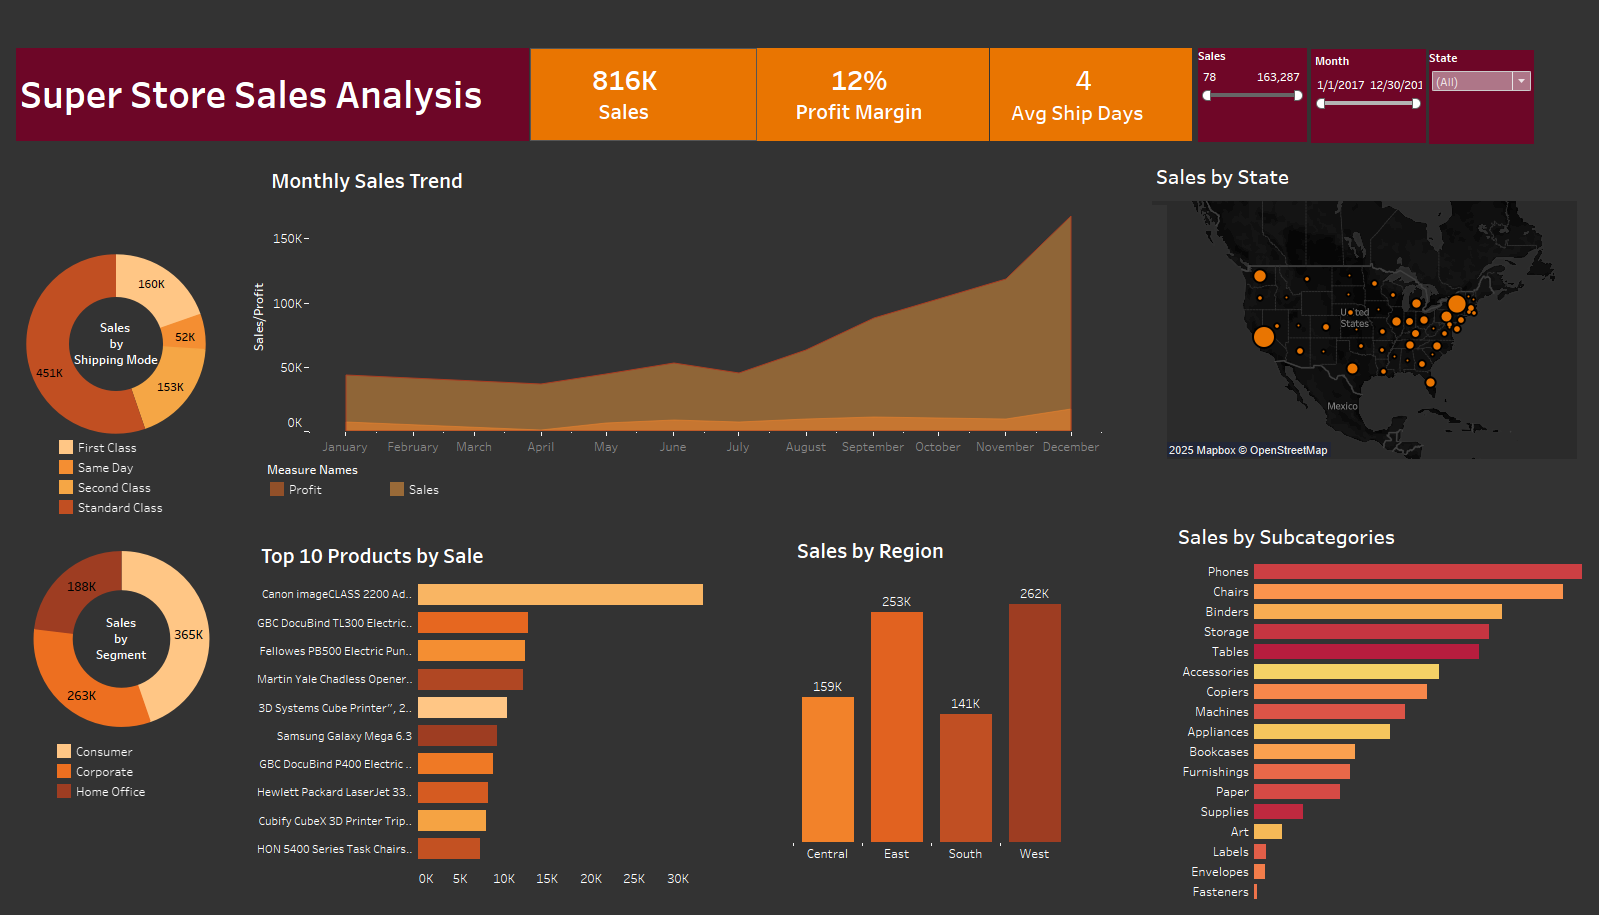

This screenshot's page, from the dashboard's own definition file:
{"tool":"tableau","page":{"name":"Dashboard 1","canvas":[1600,900],"ordinal":0},"visuals":[{"type":"worksheet","title":"Header","mark":"Automatic","box":[2,14,526,137]},{"type":"worksheet","title":"Total Sales","mark":"Automatic","box":[516,14,227,93]},{"type":"worksheet","title":"Profit Margin","mark":"Automatic","box":[743,14,233,97]},{"type":"worksheet","title":"AverageshipDate","mark":"Automatic","box":[976,14,220,102]},{"type":"filter","title":"Sales by State","param":"[federated.0d0wovi0mn58ye1bmkpum0ag3k66].[sum:sales:qk]","box":[1184,14,109,94]},{"type":"filter","title":"Monthly Trend","param":"[federated.0d0wovi0mn58ye1bmkpum0ag3k66].[none:order date:qk]","box":[1297,15,115,94]},{"type":"filter","title":"salesbysubcategories","param":"[federated.0d0wovi0mn58ye1bmkpum0ag3k66].[none:state:nk]","box":[1415,16,105,94]},{"type":"worksheet","title":"Sales by State","mark":"Automatic","box":[1138,124,425,301]},{"type":"worksheet","title":"Monthly Trend","mark":"Area","rows":["profit","sales"],"cols":["order date"],"box":[236,128,917,299]},{"type":"worksheet","title":"Sales by Shippingmod","mark":"Pie","rows":["Calculation_2115847413650399239","Calculation_2115847413650411529"],"box":[0,200,204,220]},{"type":"legend","title":"Sales by Shippingmod","param":"[federated.0d0wovi0mn58ye1bmkpum0ag3k66].[none:ship mode:nk]","box":[42,403,177,99]},{"type":"legend","title":"Monthly Trend","param":"[federated.0d0wovi0mn58ye1bmkpum0ag3k66].[:Measure Names]","box":[253,427,360,58]},{"type":"worksheet","title":"salesbysubcategories","mark":"Automatic","rows":["sub-category"],"cols":["sales"],"box":[1160,484,424,400]},{"type":"worksheet","title":"Sales by Region","mark":"Automatic","rows":["sales"],"cols":["region"],"box":[779,498,277,331]},{"type":"worksheet","title":"Top 10 Products","mark":"Automatic","rows":["product name"],"cols":["sales"],"box":[243,503,460,356]},{"type":"legend","title":"Sales by Segment","param":"[federated.0d0wovi0mn58ye1bmkpum0ag3k66].[none:segment:nk]","box":[40,707,140,78]}]}

Visuals, with their boxes in screenshot pixels (x1, y1, x2, y2), scaled from the page's 1600x900 canvas onto the 1599x915 screenshot:
"Header" worksheet: crop(2, 14, 528, 154)
"Total Sales" worksheet: crop(516, 14, 743, 109)
"Profit Margin" worksheet: crop(743, 14, 975, 113)
"AverageshipDate" worksheet: crop(975, 14, 1195, 118)
"Sales by State" filter: crop(1183, 14, 1292, 110)
"Monthly Trend" filter: crop(1296, 15, 1411, 111)
"salesbysubcategories" filter: crop(1414, 16, 1519, 112)
"Sales by State" worksheet: crop(1137, 126, 1562, 432)
"Monthly Trend" worksheet (Area marks): crop(236, 130, 1152, 434)
"Sales by Shippingmod" worksheet (Pie marks): crop(0, 203, 204, 427)
"Sales by Shippingmod" legend: crop(42, 410, 219, 510)
"Monthly Trend" legend: crop(253, 434, 613, 493)
"salesbysubcategories" worksheet: crop(1159, 492, 1583, 899)
"Sales by Region" worksheet: crop(779, 506, 1055, 843)
"Top 10 Products" worksheet: crop(243, 511, 703, 873)
"Sales by Segment" legend: crop(40, 719, 180, 798)
